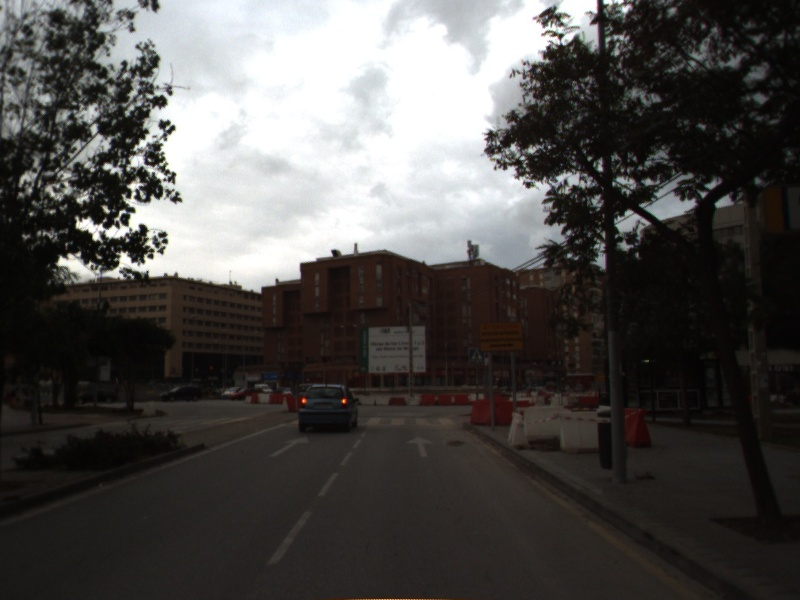STRAIGHT: (267, 434, 311, 459), (404, 434, 436, 459)
